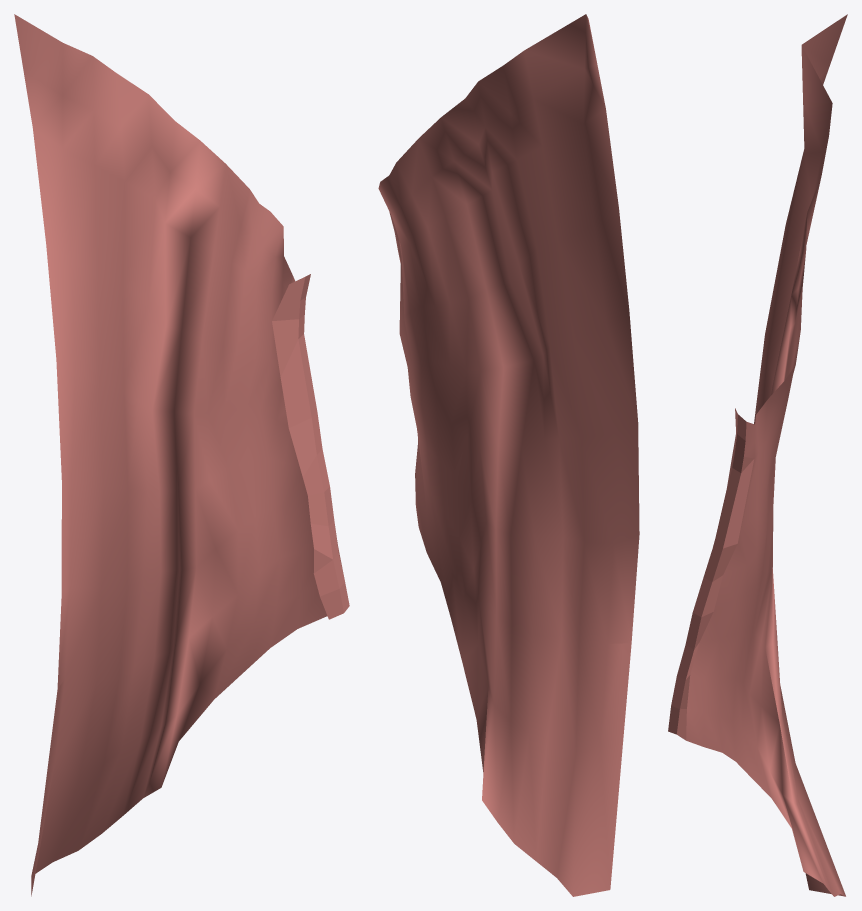
The picture shows the model from 3 angles, left to right: view 1: azimuth 30°, elevation 25°; view 2: azimuth 150°, elevation 25°; view 3: azimuth 270°, elevation 25°; orthographic projection.
Parts seen in each view (by area): view 1: ZA_5f8bad9216abc53f; view 2: ZA_5f8bad9216abc53f; view 3: ZA_5f8bad9216abc53f.
Part boxes in pixels (left/top/right/bottom): ZA_5f8bad9216abc53f: left=14, top=14, right=349, bottom=896; ZA_5f8bad9216abc53f: left=378, top=14, right=639, bottom=896; ZA_5f8bad9216abc53f: left=668, top=14, right=847, bottom=896.
Size of the model in its own units: 0.0718 by 0.2357 by 0.0438.
